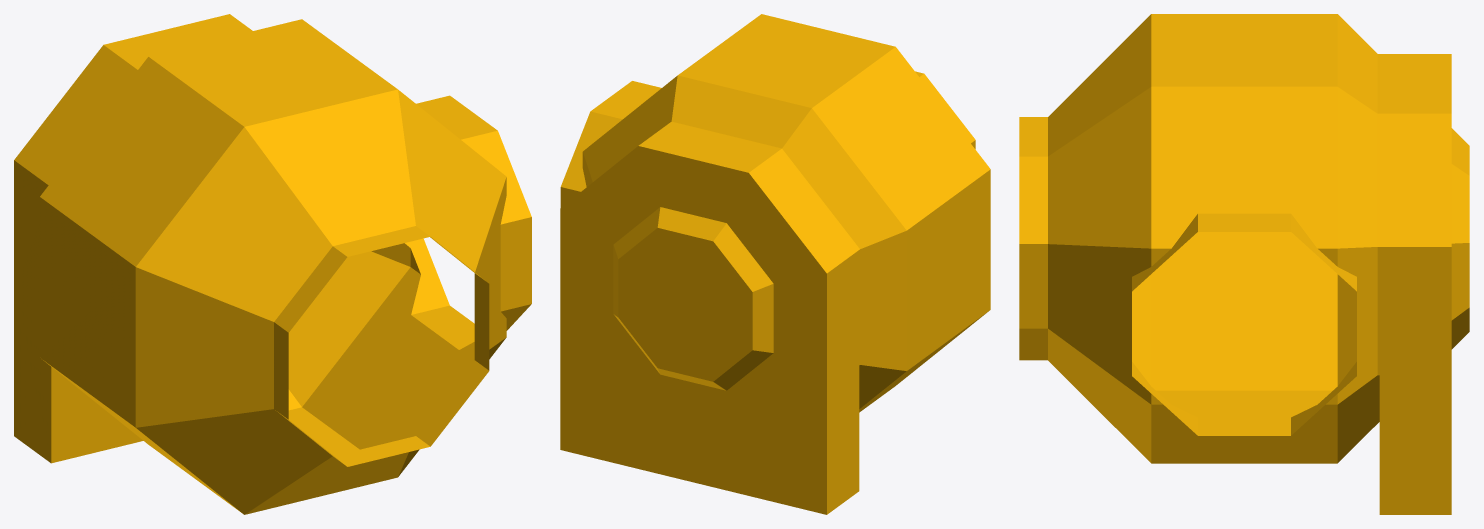
Rendered from modular_engine_fluid_pump_housing.dae.
3 views of the same model, side by side, from view 1: azimuth 30°, elevation 25°; view 2: azimuth 150°, elevation 25°; view 3: azimuth 270°, elevation 25° (orthographic). The views are drawn at different scales.
Visible parts, largest first — view 1: Cube; view 2: Cube; view 3: Cube.
Boxes of the visible parts, bbox=[...] form: Cube: bbox=[14, 14, 531, 514]; Cube: bbox=[560, 14, 990, 514]; Cube: bbox=[1019, 14, 1469, 514].
Size of the model in its own units: 0.2405 by 0.25 by 0.2405.
